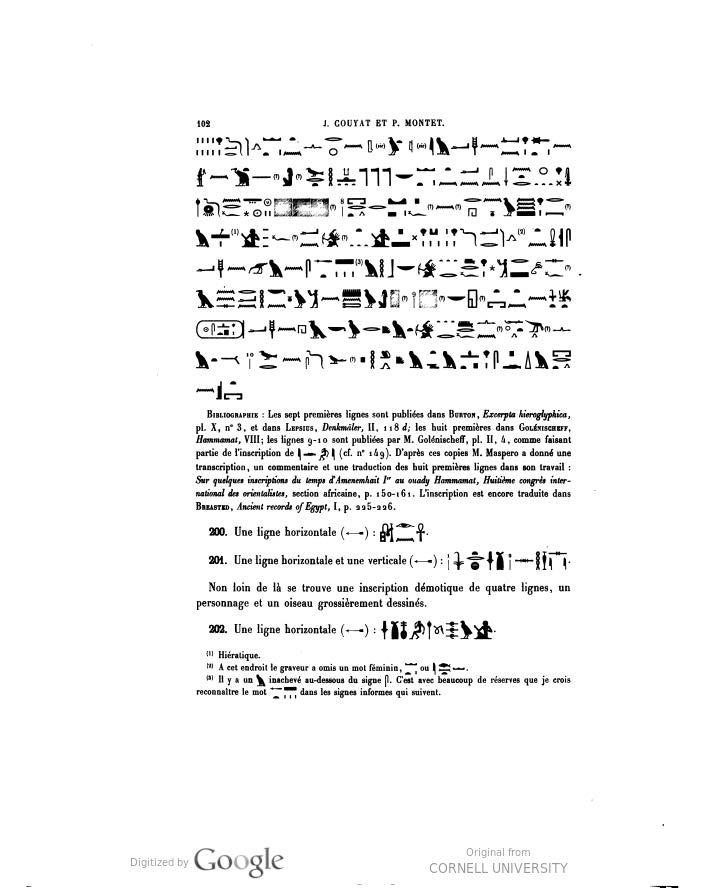circle: (194, 306, 255, 351)
